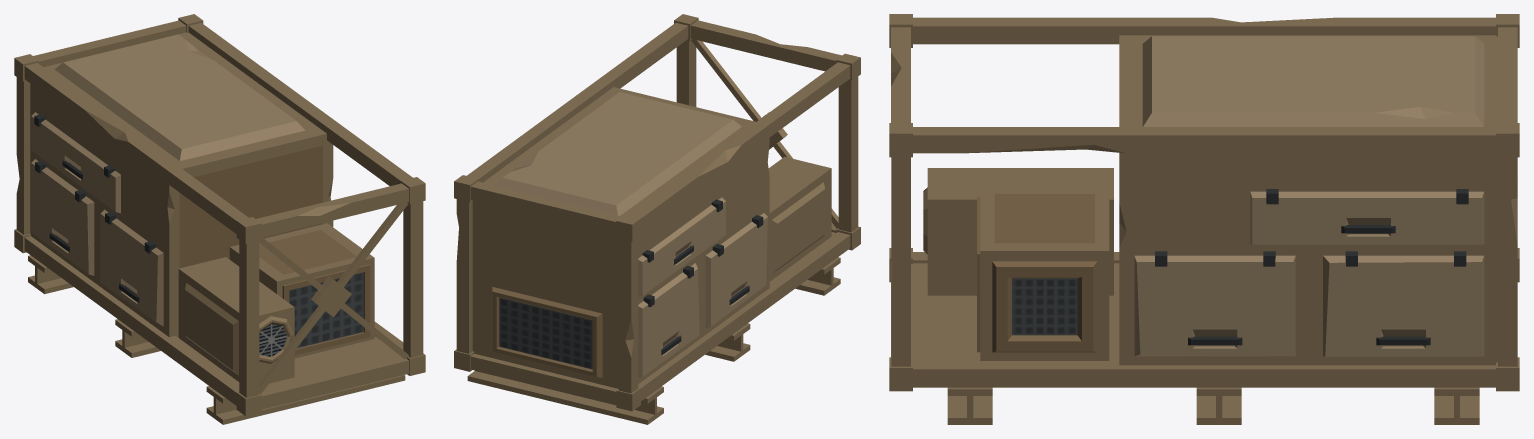
Rendered from SM_Prop_Generator_Large_01.glb.
3 renders of one model, left to right at view 1: azimuth 30°, elevation 25°; view 2: azimuth 150°, elevation 25°; view 3: azimuth 270°, elevation 25°, orthographic. The views are drawn at different scales.
Parts seen in each view (by area): view 1: SM_Prop_Generator_Large_01; view 2: SM_Prop_Generator_Large_01; view 3: SM_Prop_Generator_Large_01.
Part boxes in pixels (x1,y1,x2,y2): SM_Prop_Generator_Large_01: (14,14,425,424); SM_Prop_Generator_Large_01: (454,14,860,424); SM_Prop_Generator_Large_01: (889,14,1519,424).
Bounding box in the file's own units: 1.95 × 2.18 × 4.29.
Materials: 1 (1 with a texture image).
